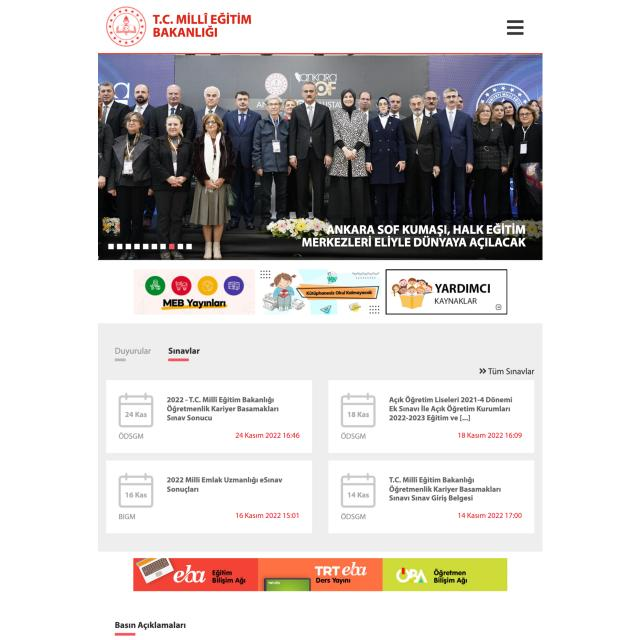logo: (104, 4, 253, 48)
navigation: (507, 18, 525, 38)
